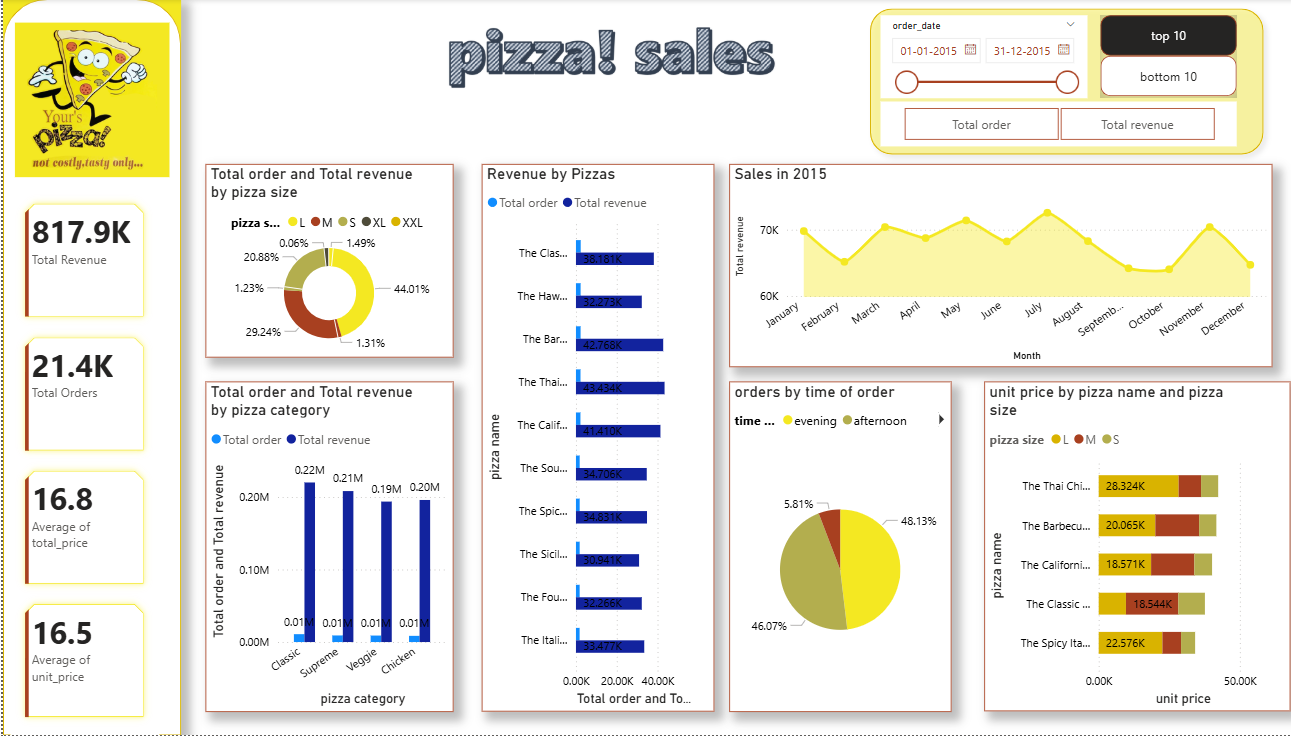

Layout of this report page (visuals, bound fields, positions):
{"tool":"powerbi","page":{"name":"Page 2","canvas":[1400,800],"ordinal":0},"visuals":[{"type":"image","title":"pizza heading","box":[464.7,0,409,111.4],"z":0},{"type":"group","id":"g1","title":"Group 1","box":[0,0,193.3,800.4],"z":1000},{"type":"shape","title":"big shape","box":[0,0,193.3,800.4],"z":1000,"group":"g1"},{"type":"image","title":"logo","box":[7.6,18.3,178,184.1],"z":2000,"group":"g1"},{"type":"donutChart","fields":{"Y":["pizza_sales.Total order","pizza_sales.Total revenue"],"Category":["pizza_sales.pizza_size"]},"box":[220.7,179.6,269.3,210],"z":2000},{"type":"cardVisual","fields":{"Data":["Sum(pizza_sales.total_price)","Count(pizza_sales.order_id)","Avg(pizza_sales.total_price)","Avg(pizza_sales.unit_price)"]},"box":[8.2,206.5,161.7,593.8],"z":3000},{"type":"clusteredColumnChart","fields":{"Y":["pizza_sales.Total order","pizza_sales.Total revenue"],"Category":["pizza_sales.pizza_category"]},"box":[220.7,415.4,269.3,359.1],"z":4000},{"type":"clusteredBarChart","title":"Revenue by Pizzas","fields":{"Y":["pizza_sales.Total order","pizza_sales.Total revenue"],"Category":["pizza_sales.pizza_name"]},"box":[520.4,179.6,252.6,595],"z":5000},{"type":"lineChart","title":"Sales in 2015","fields":{"Y":["pizza_sales.Total revenue"],"Category":["pizza_sales.order_date.Variation.Date Hierarchy.Month"]},"box":[789.8,179.6,590.4,220.7],"z":6000},{"type":"pieChart","fields":{"Category":["pizza_sales.time of order"],"Y":["Count(pizza_sales.order_id)"]},"box":[789.8,415.4,242,359.1],"z":7000},{"type":"barChart","fields":{"Y":["Sum(pizza_sales.unit_price)"],"Category":["pizza_sales.pizza_name"],"Series":["pizza_sales.pizza_size"]},"box":[1066.6,415.8,332.9,358.7],"z":8000},{"type":"shape","box":[932.1,0,448.4,179.3],"z":9000},{"type":"slicer","fields":{"Values":["pizza_sales.order_date"]},"box":[953.8,17.7,224.2,89.7],"z":10000},{"type":"slicer","fields":{"Values":["Parameter.Parameter"]},"box":[953.8,111.4,387.2,48.9],"z":11000},{"type":"bookmarkNavigator","box":[1192.9,17.7,148.1,89.7],"z":12000}]}

Visuals, with their boxes in screenshot pixels (x1, y1, x2, y2), scaled from the page's 1400x800 canvas onto the 1291x736 screenshot:
"pizza heading" image: [left=429, top=0, right=806, bottom=102]
"Group 1" group: [left=0, top=0, right=178, bottom=735]
"big shape" shape: [left=0, top=0, right=178, bottom=735]
"logo" image: [left=7, top=17, right=171, bottom=186]
donutChart - pizza_sales.Total order x pizza_sales.Total revenue: [left=204, top=165, right=452, bottom=358]
cardVisual - Sum(pizza_sales.total_price) x Count(pizza_sales.order_id): [left=8, top=190, right=157, bottom=735]
clusteredColumnChart - pizza_sales.Total order x pizza_sales.Total revenue: [left=204, top=382, right=452, bottom=713]
"Revenue by Pizzas" clusteredBarChart: [left=480, top=165, right=713, bottom=713]
"Sales in 2015" lineChart: [left=728, top=165, right=1273, bottom=368]
pieChart - pizza_sales.time of order x Count(pizza_sales.order_id): [left=728, top=382, right=951, bottom=713]
barChart - Sum(pizza_sales.unit_price) x pizza_sales.pizza_name: [left=984, top=383, right=1290, bottom=713]
shape: [left=860, top=0, right=1273, bottom=165]
slicer - pizza_sales.order_date: [left=880, top=16, right=1086, bottom=99]
slicer - Parameter.Parameter: [left=880, top=102, right=1237, bottom=147]
bookmarkNavigator: [left=1100, top=16, right=1237, bottom=99]
